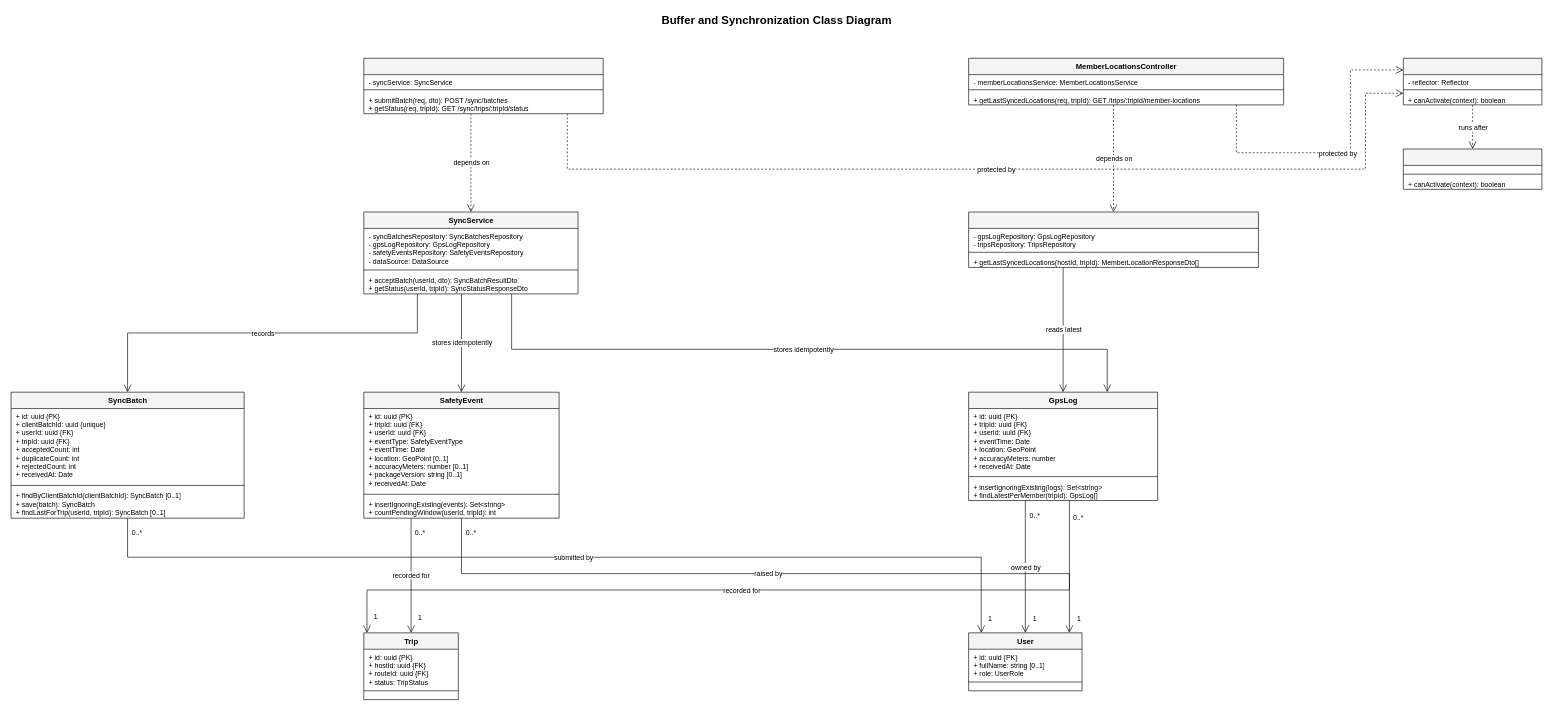
This 1553x711 diagram has some shape labels left out. The box of each missing label's shape, as (x1, y1, x2, y2) in pixels:
JwtAuthGuard: (1403, 148, 1542, 189)
MemberLocationsService: (968, 211, 1258, 267)
RolesGuard: (1403, 58, 1542, 105)
SyncController: (363, 58, 603, 114)
